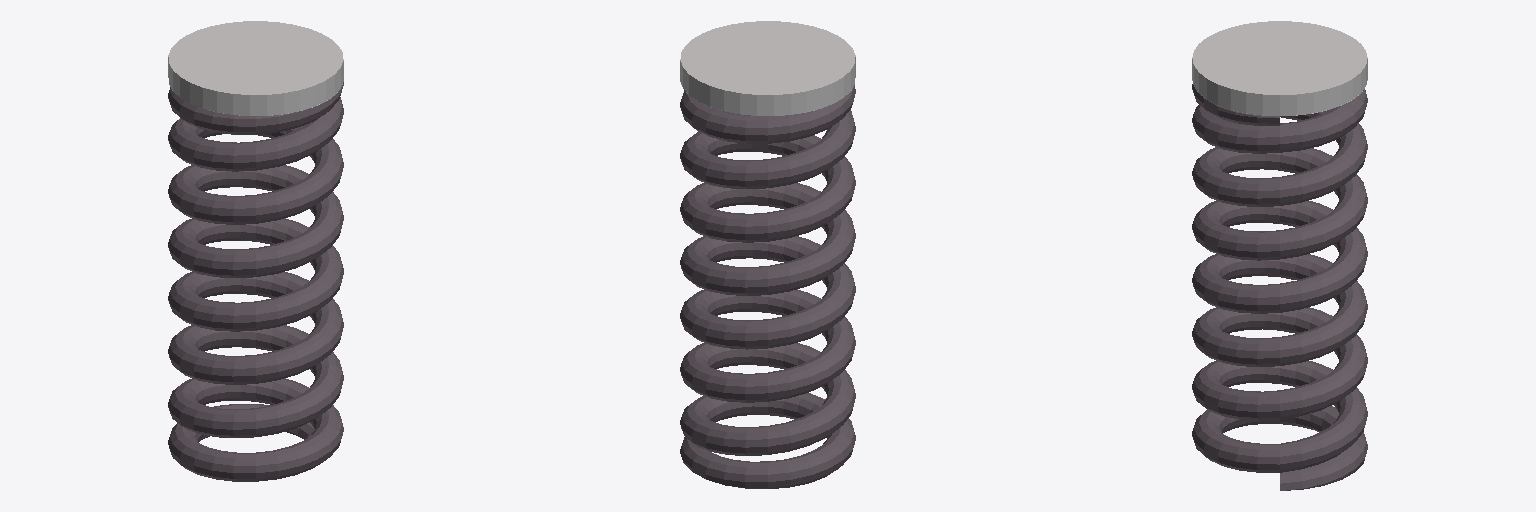
3 views of the same model, side by side, from view 1: azimuth 30°, elevation 25°; view 2: azimuth 150°, elevation 25°; view 3: azimuth 270°, elevation 25° (orthographic).
Visible parts, largest first — view 1: resorte, Cylinder; view 2: resorte, Cylinder; view 3: resorte, Cylinder.
Boxes of the visible parts, box(x1,y1,x2,y2) form: resorte: box(168, 82, 343, 481); Cylinder: box(168, 21, 343, 115); resorte: box(680, 85, 855, 488); Cylinder: box(680, 21, 855, 115); resorte: box(1192, 84, 1367, 490); Cylinder: box(1192, 21, 1367, 115).
Bounding box in the file's own units: 5.91 × 14.6 × 5.91.
2 materials, 1 textured.